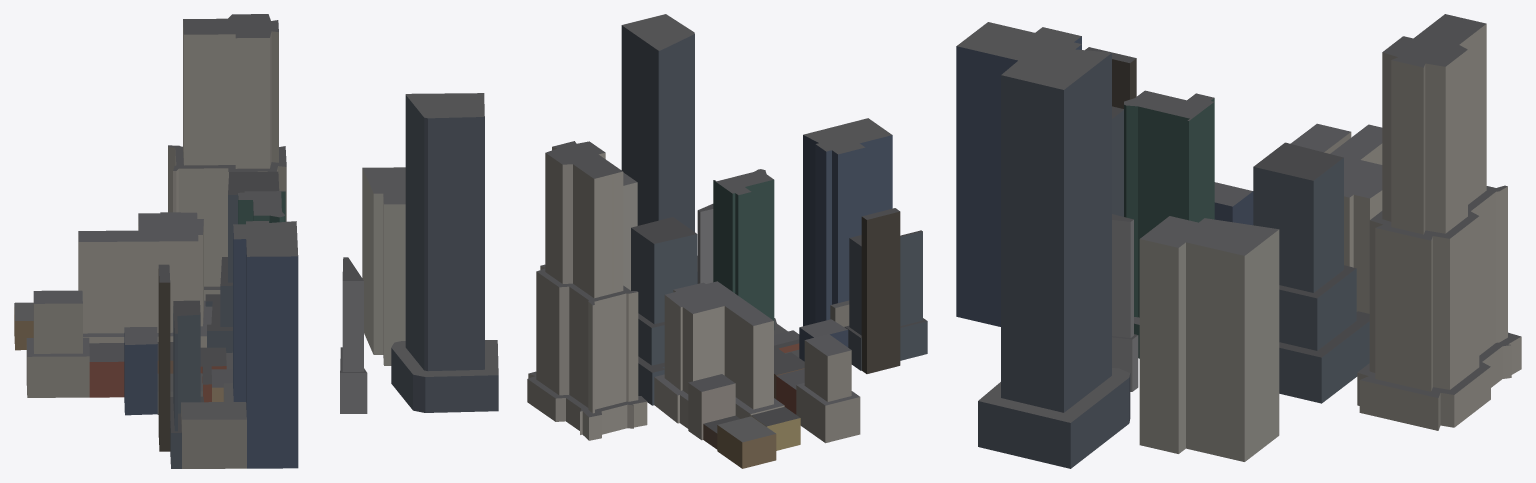
Rendered from -1_-1.far.glb.
3 views of the same model, side by side, from view 1: azimuth 30°, elevation 25°; view 2: azimuth 150°, elevation 25°; view 3: azimuth 270°, elevation 25° (orthographic). The views are drawn at different scales.
Visible parts, largest first — view 1: -1_-1_far; view 2: -1_-1_far; view 3: -1_-1_far.
Part boxes in pixels (box(x1,y1,x2,y2)): -1_-1_far: box(14, 14, 498, 468); -1_-1_far: box(527, 14, 927, 468); -1_-1_far: box(956, 14, 1521, 468).
Size of the model in its own units: 305 by 225 by 312.
